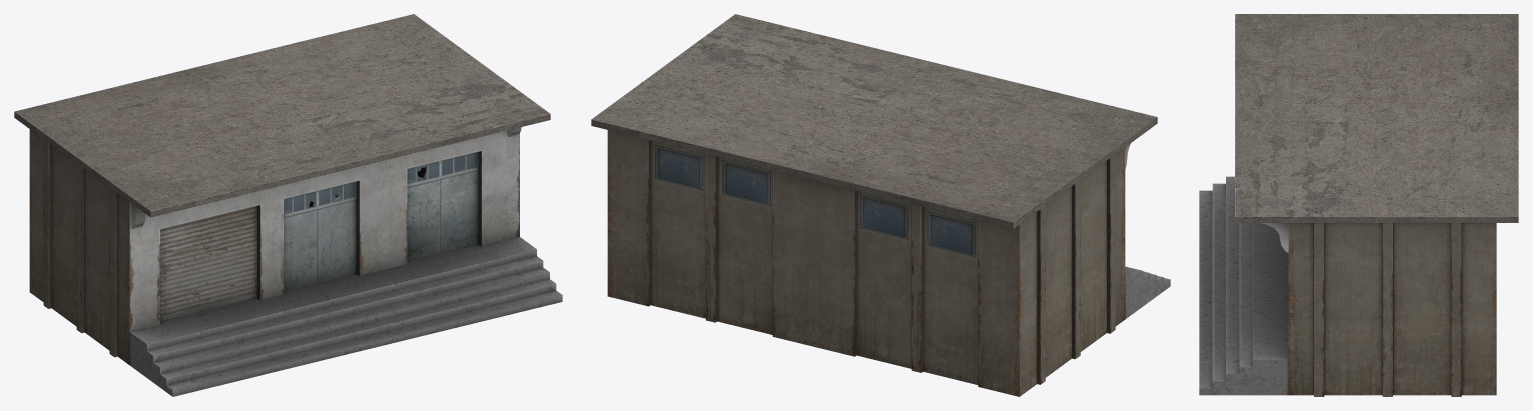
The model's file is buildings_20.FBX.
3 renders of one model, left to right at view 1: azimuth 30°, elevation 25°; view 2: azimuth 150°, elevation 25°; view 3: azimuth 270°, elevation 25°, orthographic. The views are drawn at different scales.
Parts seen in each view (by area): view 1: Object003; view 2: Object003; view 3: Object003.
Part boxes in pixels (bbox=[...]): Object003: bbox=[14, 14, 562, 396]; Object003: bbox=[591, 14, 1170, 396]; Object003: bbox=[1199, 14, 1518, 396].
Bounding box in the file's own units: 923 × 614 × 384.
1 material, 1 textured.
